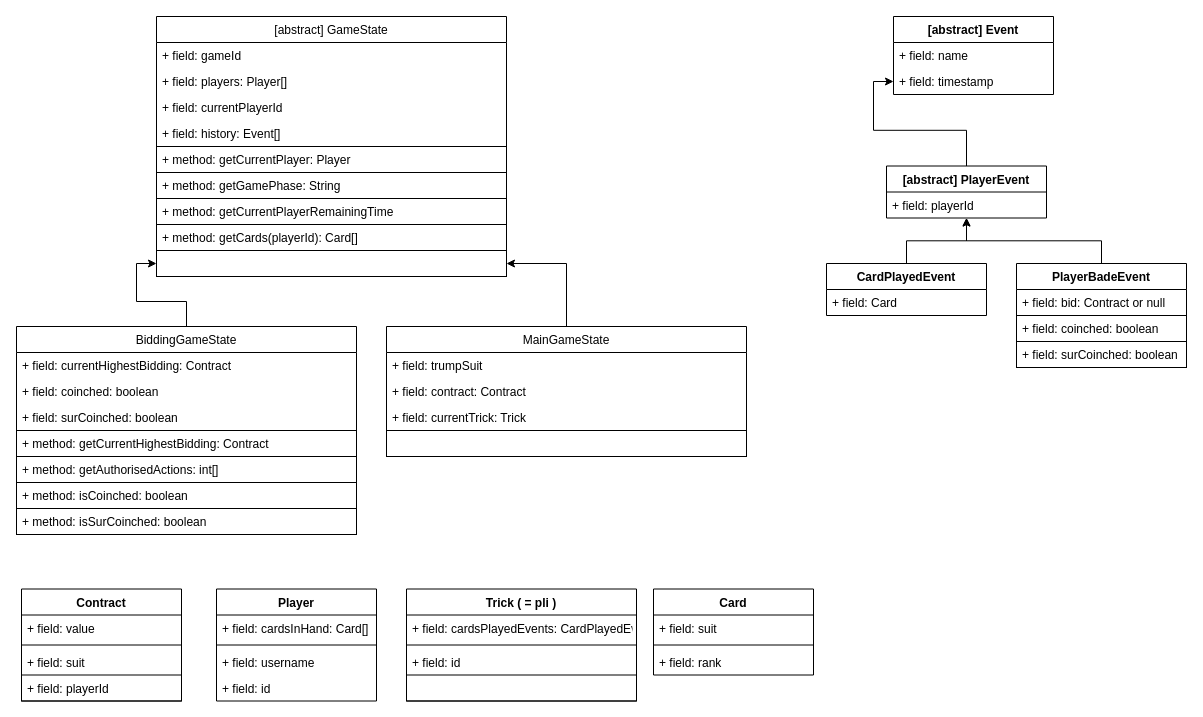
The diagram is 1203 pixels wide and 717 high, and some of its shapes have lost their labels. Here are the shapes that lost their labels. From the top down, the centre of each, then its label:
At point 331,263: "+ method: apply(event: Event)".
At point 566,443: "+ method: getAuthorisedActions: Card[]".
At point 521,687: "+ field: winnerId".
